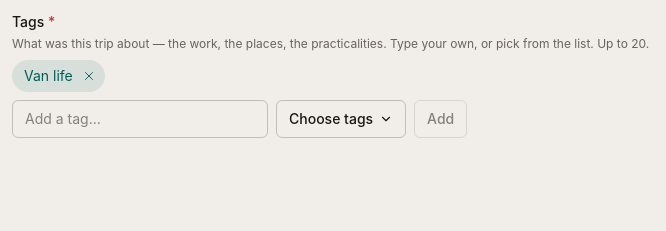
Scenario: TagEditor › never offers an already-selected tag as a suggestion
The image size is (666, 231).
Click the button "Choose tags" at {"x": 341, "y": 119}, box [276, 100, 406, 138]
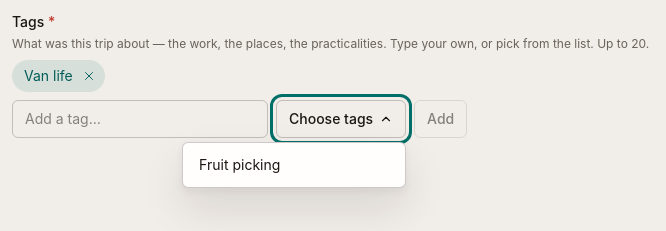
Expected: the buttons read "Fruit picking", in this order, [187, 147, 401, 183]
